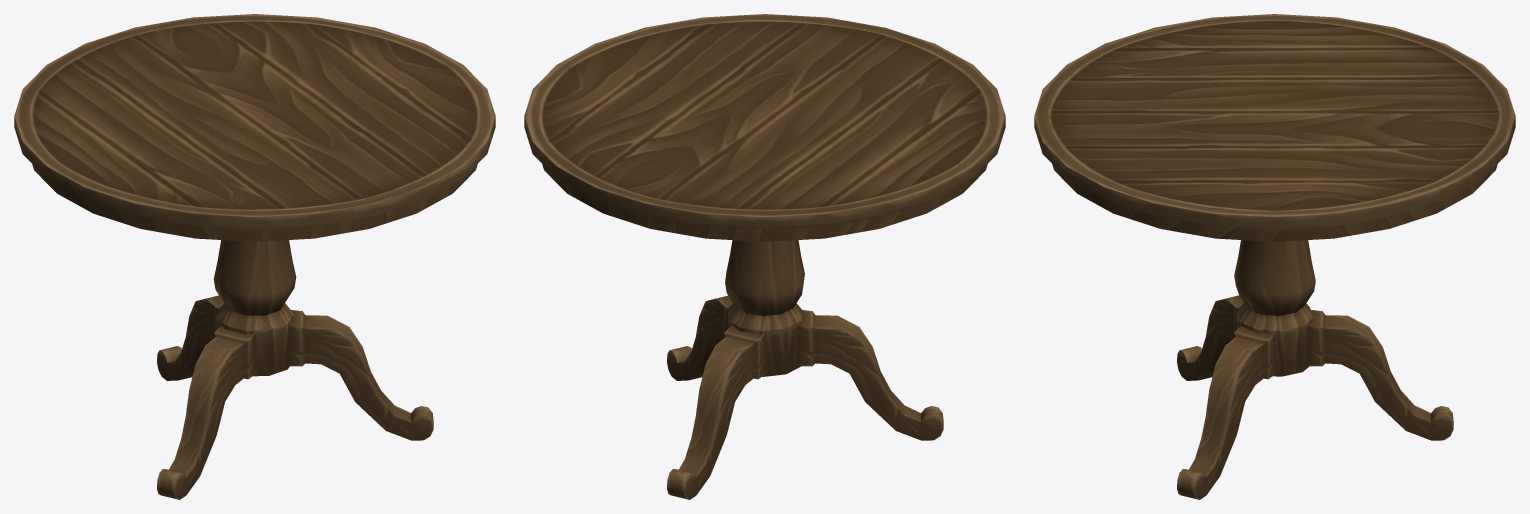
Rendered from Table_round.FBX.
3 views of the same model, side by side, from view 1: azimuth 30°, elevation 25°; view 2: azimuth 150°, elevation 25°; view 3: azimuth 270°, elevation 25° (orthographic).
Parts seen in each view (by area): view 1: Table_round; view 2: Table_round; view 3: Table_round.
Boxes of the visible parts, x1,y1,x2,y2 form: Table_round: [14, 14, 495, 499]; Table_round: [524, 14, 1005, 499]; Table_round: [1034, 14, 1515, 499].
Size of what is drawn, in the model's own units: 120 by 120 by 88.15.
